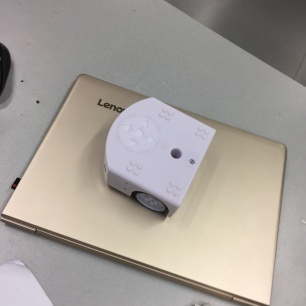thymio: (90, 94, 222, 219)
